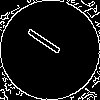I: (25, 25, 71, 63)
